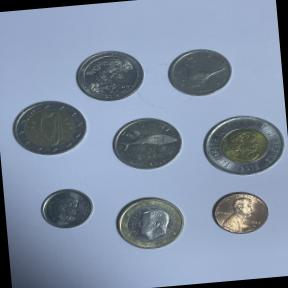1 Euro-B: (109, 190, 194, 256)
2 Euro-B: (9, 97, 92, 162)
Canada-10cent-B: (36, 182, 99, 234)
Canada-2Dollar-B: (195, 105, 288, 184)
Croatia-2Kune-B: (106, 112, 188, 179)
US-1cent-B: (205, 184, 275, 240)
US-25cent-B: (70, 46, 150, 106)
